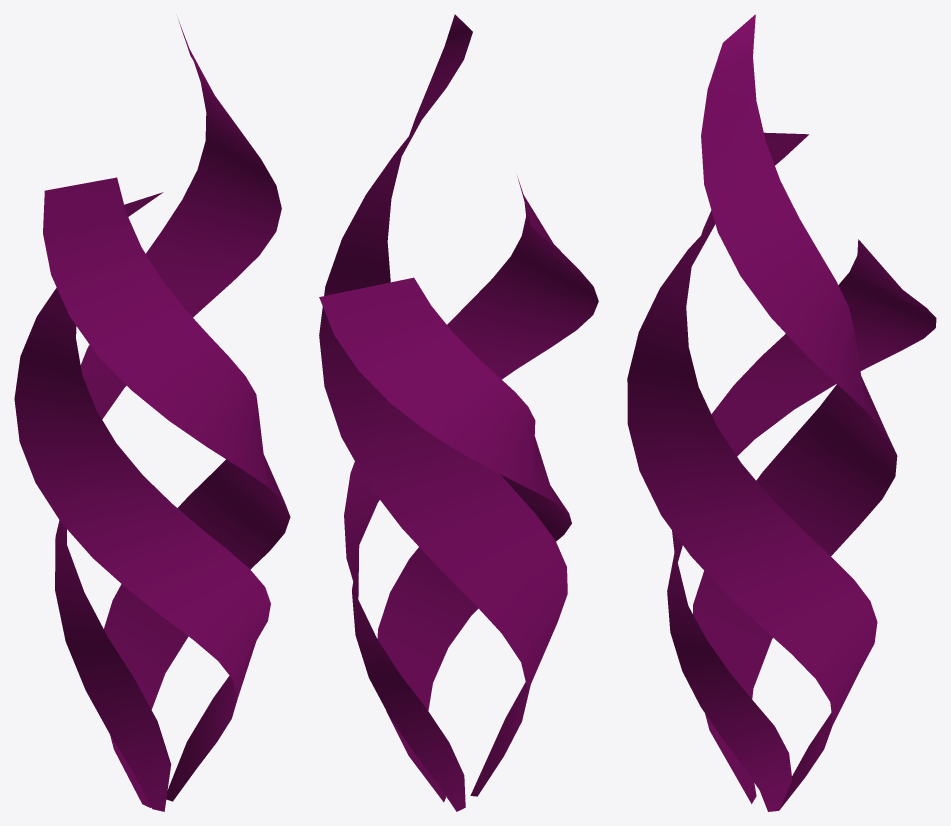
The model's file is M_speedluoxuan_001.FBX.
The picture shows the model from 3 angles, left to right: view 1: azimuth 30°, elevation 25°; view 2: azimuth 150°, elevation 25°; view 3: azimuth 270°, elevation 25°; orthographic projection. The views are drawn at different scales.
Parts seen in each view (by area): view 1: qx; view 2: qx; view 3: qx.
Boxes of the visible parts, left/top/right/bottom form: qx: left=14, top=19, right=290, bottom=811; qx: left=319, top=14, right=598, bottom=811; qx: left=627, top=14, right=936, bottom=811.
Size of the model in its own units: 38.16 by 125 by 43.56.
